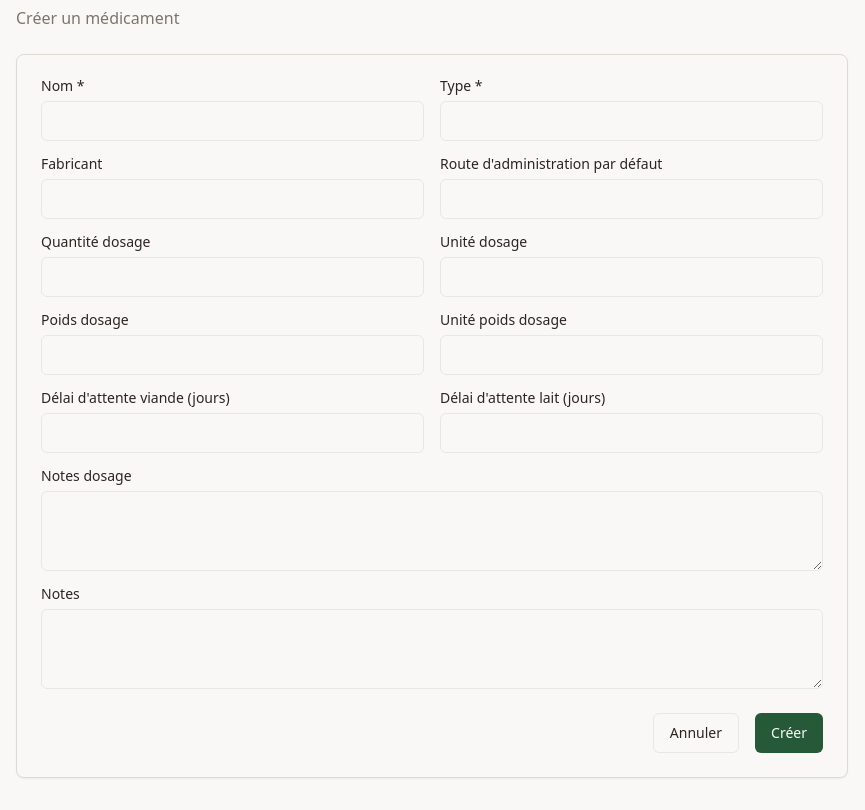
MedicamentsCreatePage › renders the create page and shows validation errors
(page scrolled)
Click the button "Créer": (789, 733) x1=755 y1=713 x2=823 y2=753
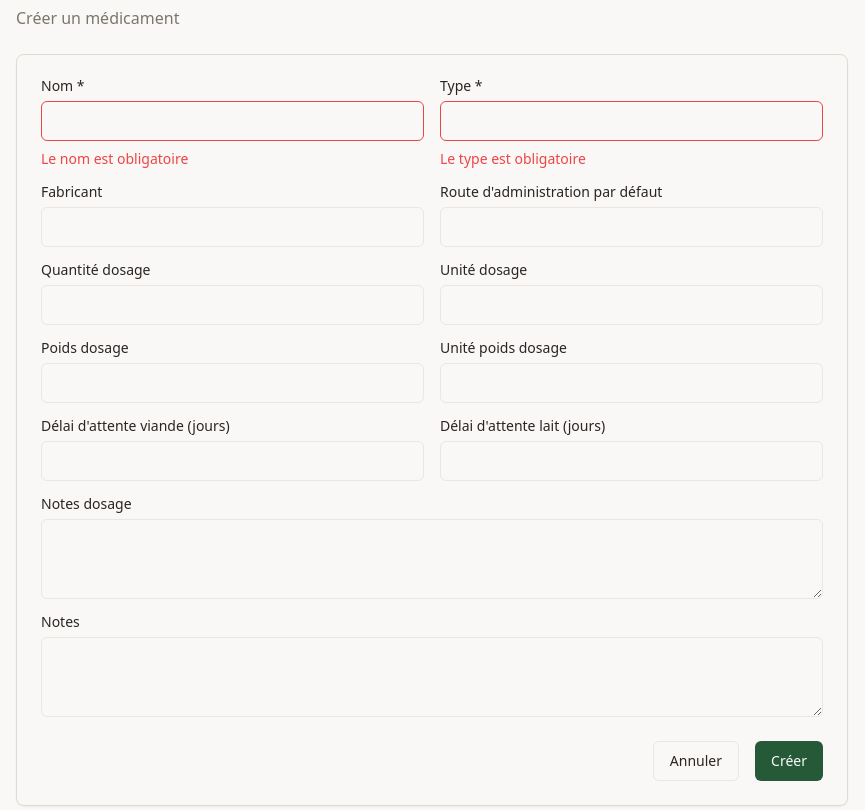
Check: the text "Le nom est obligatoire" is shown, box x1=41 y1=149 x2=188 y2=168
Check: the text "Le type est obligatoire" is shown, box x1=440 y1=149 x2=586 y2=168
